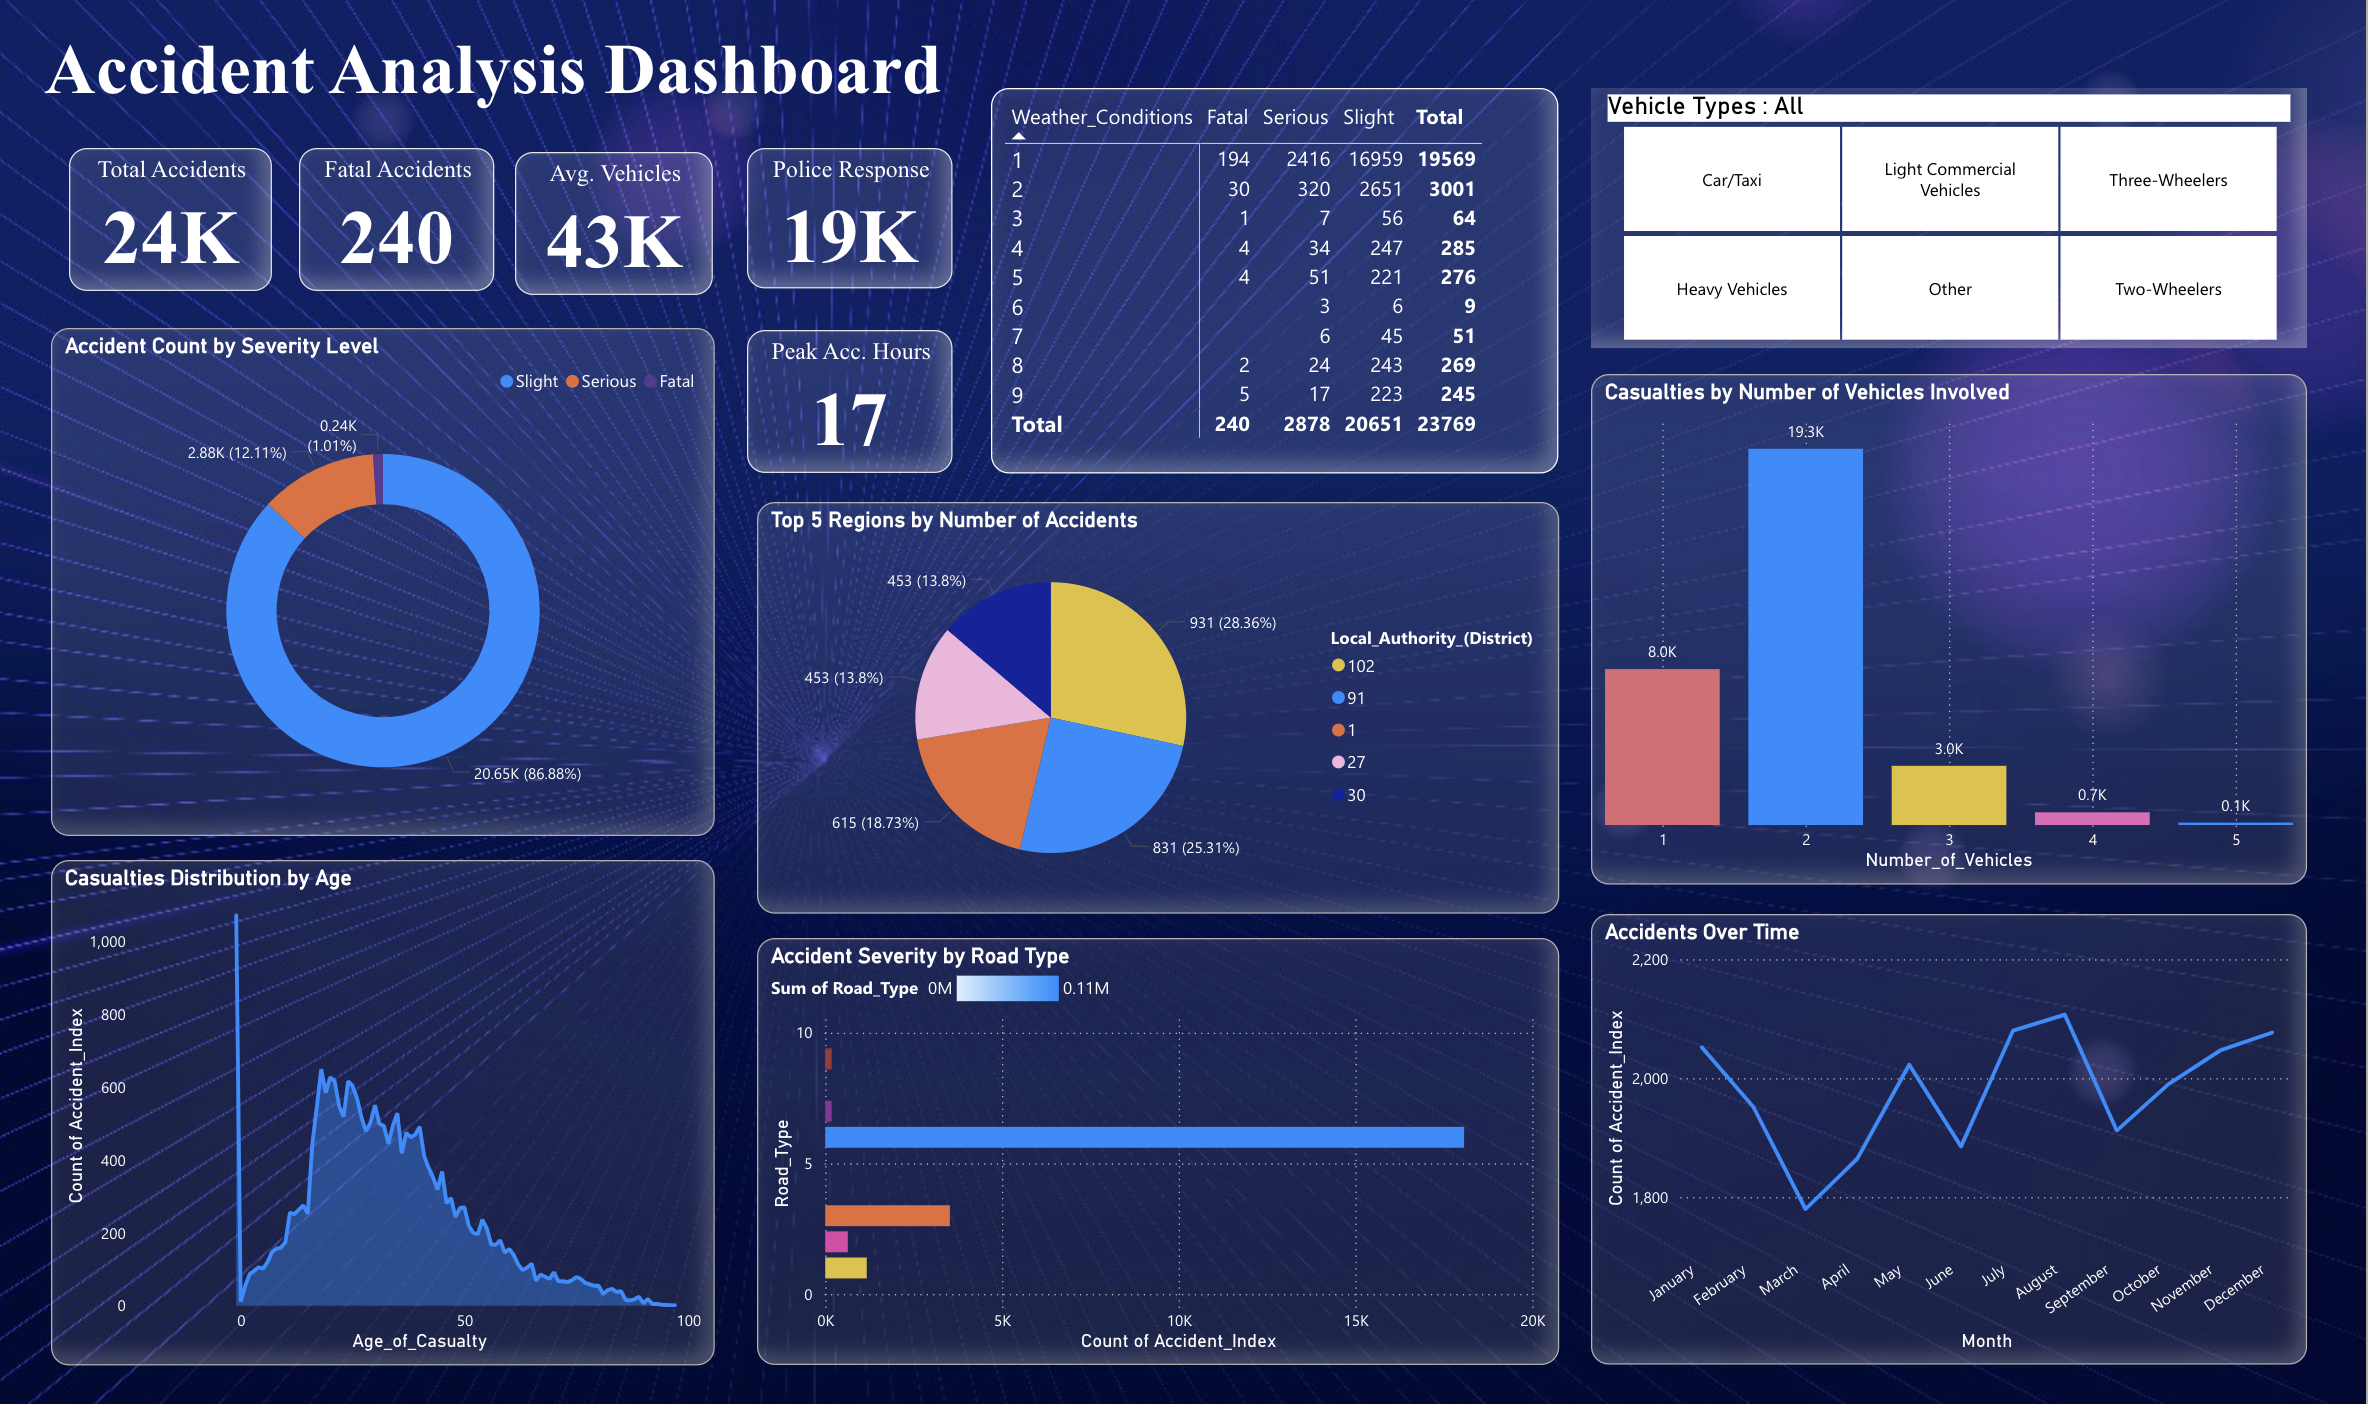

The dashboard page shown, as its layout file describes it:
{"tool":"powerbi","page":{"name":"Vehicles","canvas":[1280,720],"ordinal":2},"visuals":[{"type":"pieChart","title":"Drivers in each Age Band","fields":{"Y":["CountNonNull(REALVEH_FINAL_UPDATED.Age_of_Driver)"],"Category":["REALVEH_FINAL_UPDATED.Age Band"]},"box":[400,176,480,288],"z":0},{"type":"gauge","title":"Total Records","fields":{"Y":["CountNonNull(REALVEH_FINAL_UPDATED.Accident_Index)"]},"box":[32,32,208,128],"z":1000},{"type":"lineClusteredColumnComboChart","title":"Vehicle Maneuvers by Gender","fields":{"Category":["REALVEH_FINAL_UPDATED.Skidding_Overturning_Readable"],"Y":["CountNonNull(REALVEH_FINAL_UPDATED.Accident_Index)"],"Series":["REALVEH_FINAL_UPDATED.Gender"]},"box":[400,480,480,208],"z":2000},{"type":"donutChart","title":"Accident Distribution by Gender","fields":{"Category":["REALVEH_FINAL_UPDATED.Gender"],"Y":["CountNonNull(REALVEH_FINAL_UPDATED.Accident_Index)"]},"box":[32,176,352,224],"z":3000},{"type":"clusteredColumnChart","title":"Engine Capacity Journey Analysis","fields":{"Category":["REALVEH_FINAL_UPDATED.Journey_Purpose_Readable"],"Series":["REALVEH_FINAL_UPDATED.Gender"],"Y":["CountNonNull(REALVEH_FINAL_UPDATED.Accident_Index)"]},"box":[896,432,352,256],"z":4000},{"type":"columnChart","title":"Accidents by Fuel","fields":{"Category":["REALVEH_FINAL_UPDATED.Fuel Type"],"Y":["CountNonNull(REALVEH_FINAL_UPDATED.Accident_Index)"]},"box":[896,176,352,224],"z":5000},{"type":"card","title":"Average Age of Driver","fields":{"Values":["Avg(REALVEH_FINAL_UPDATED.Age_of_Driver)"]},"box":[288,80,192,80],"z":6000},{"type":"card","title":"Avg Eng. Capacity(CC)","fields":{"Values":["Avg(REALVEH_FINAL_UPDATED.Engine_Capacity_(CC))"]},"box":[544,80,192,80],"z":7000},{"type":"card","title":"Total Genders Involved ","fields":{"Values":["Count(REALVEH_FINAL_UPDATED.Gender)"]},"box":[800,80,192,80],"z":8000},{"type":"gauge","title":"Total Age Bands","fields":{"Y":["Count(REALVEH_FINAL_UPDATED.Age Band)"]},"box":[1040,32,208,128],"z":9000},{"type":"textbox","box":[0,0,1279.9,69.5],"z":10000},{"type":"clusteredColumnChart","title":"Accidents By Vehicle","fields":{"Category":["REALVEH_FINAL_UPDATED.Vehicle Type"],"Y":["CountNonNull(REALVEH_FINAL_UPDATED.Accident_Index)"]},"box":[32,432,352,256],"z":11000}]}

Visuals, with their boxes on the page's 1280x720 design canvas (x1, y1, x2, y2). These are canvas units, not pixel positions in the 2368x1404 screenshot, which may show the page scaled, cropped or inside an application window:
"Drivers in each Age Band" pieChart: box=[400, 176, 880, 464]
"Total Records" gauge: box=[32, 32, 240, 160]
"Vehicle Maneuvers by Gender" lineClusteredColumnComboChart: box=[400, 480, 880, 688]
"Accident Distribution by Gender" donutChart: box=[32, 176, 384, 400]
"Engine Capacity Journey Analysis" clusteredColumnChart: box=[896, 432, 1248, 688]
"Accidents by Fuel" columnChart: box=[896, 176, 1248, 400]
"Average Age of Driver" card: box=[288, 80, 480, 160]
"Avg Eng. Capacity(CC)" card: box=[544, 80, 736, 160]
"Total Genders Involved " card: box=[800, 80, 992, 160]
"Total Age Bands" gauge: box=[1040, 32, 1248, 160]
textbox: box=[0, 0, 1280, 70]
"Accidents By Vehicle" clusteredColumnChart: box=[32, 432, 384, 688]
